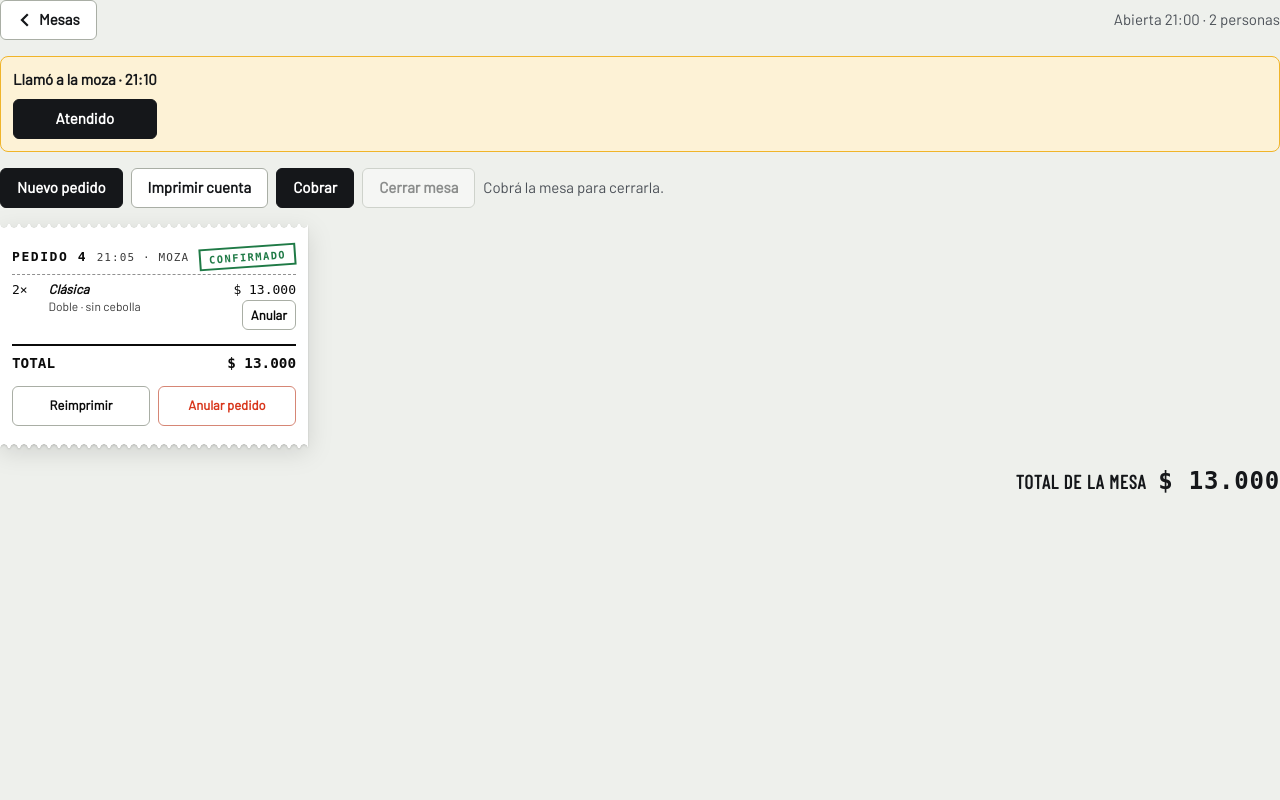
Test: "Cobrar" solo aparece para quien puede cobrar y abre el cobro con el total
This screenshot has width=1280, height=800.
Expected: the element "PEDIDO 4" is shown, [0,224,308,448]
Click the button "Cobrar".
click(315, 188)  # box [276,168,354,208]
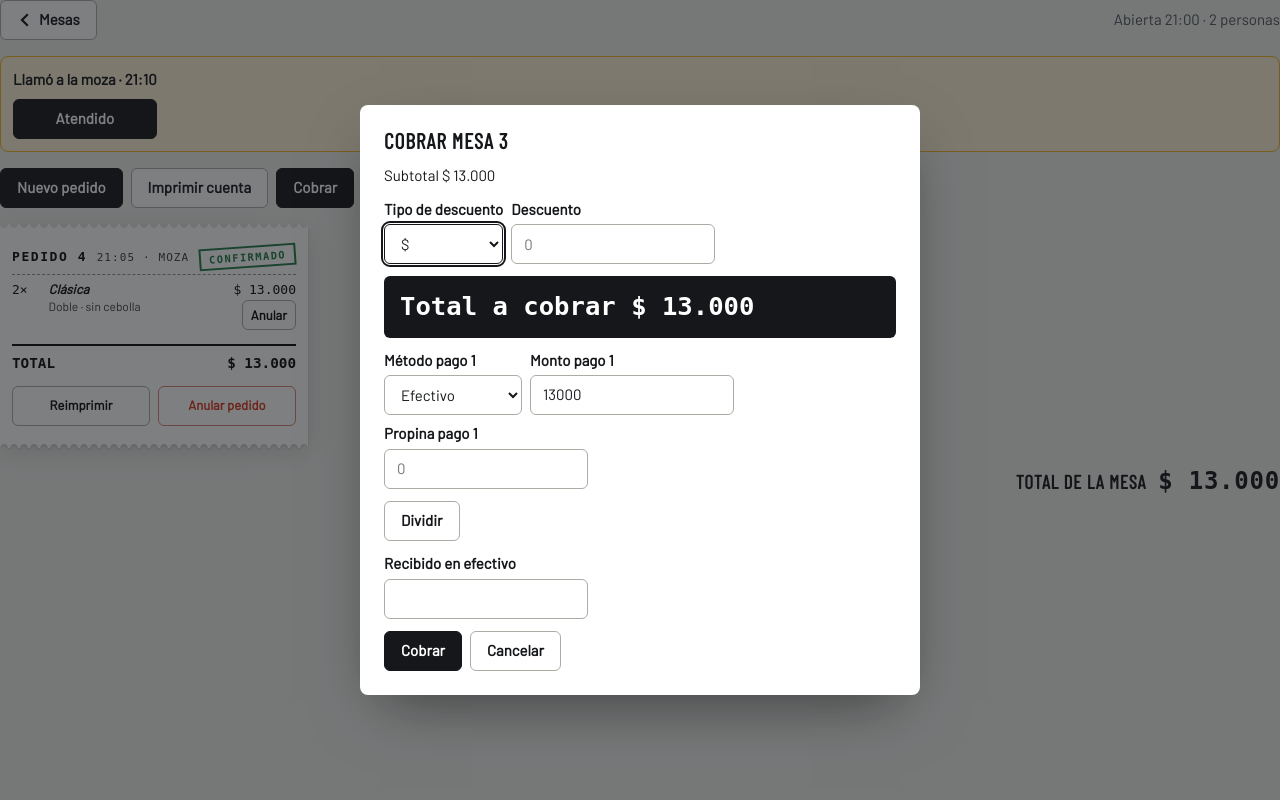
Now the text "Total a cobrar $ 13.000" is shown, box [400,288,754,326]
